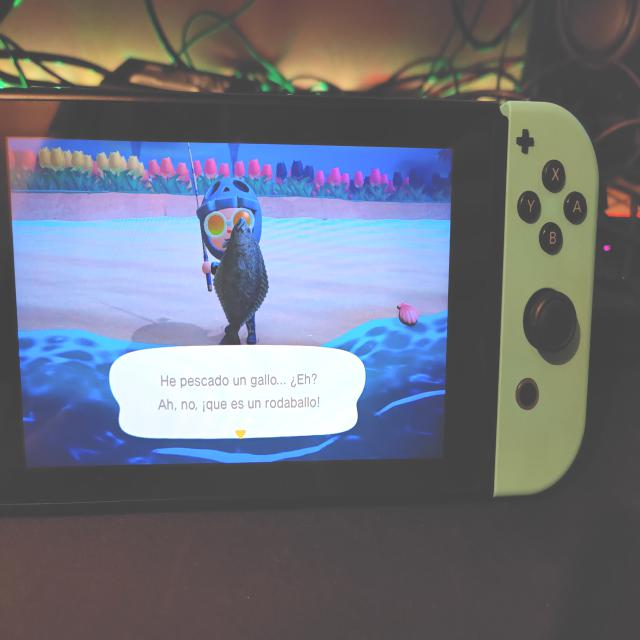text_bubble: (109, 343, 369, 444)
